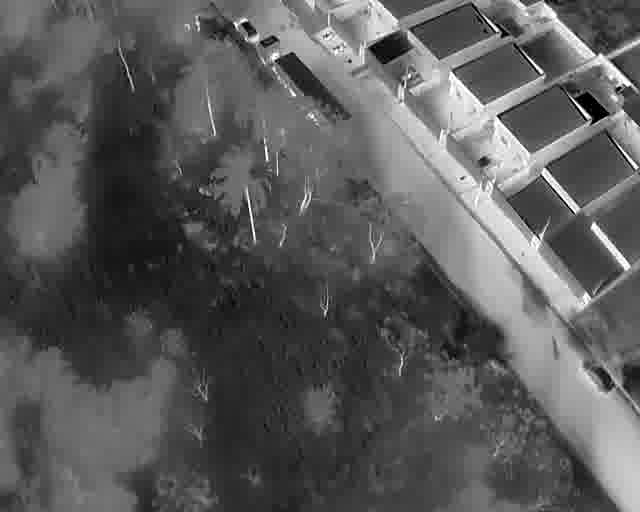car: (581, 358, 616, 396), (233, 15, 259, 43), (471, 153, 498, 172)
truck: (256, 34, 352, 129)
